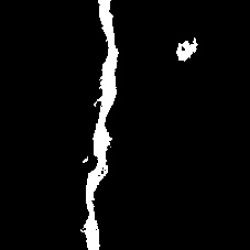crack: (83, 3, 119, 248)
spot: (176, 37, 197, 63)
